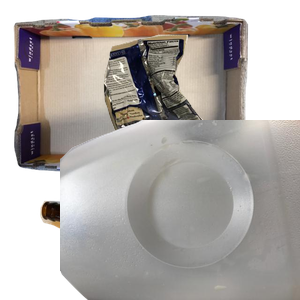cardboard: (11, 13, 251, 182)
glass: (37, 198, 236, 300)
plastic: (60, 120, 300, 300)
trash: (101, 32, 300, 195)
